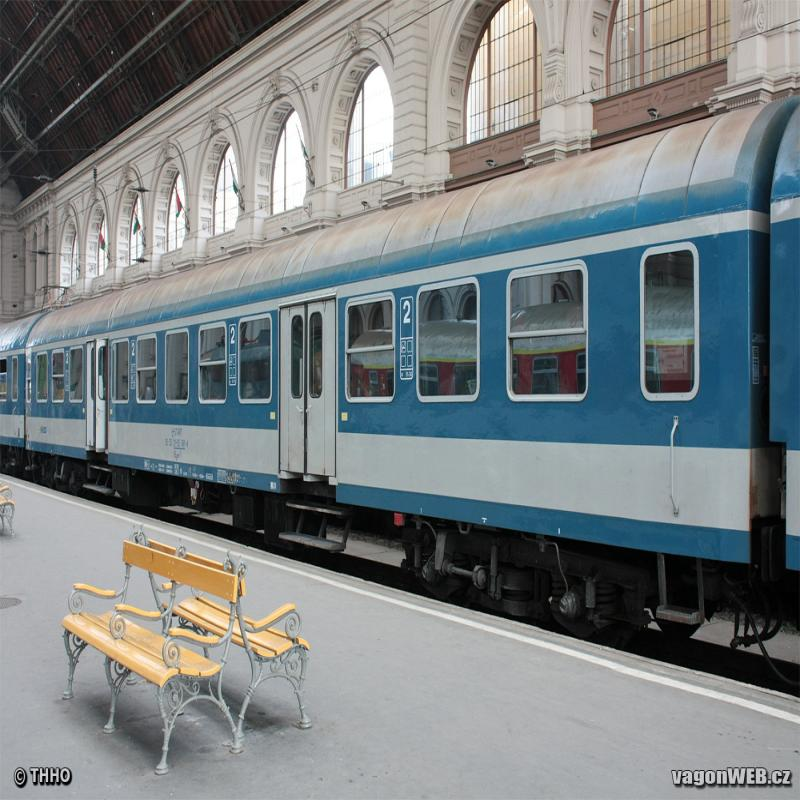train: (24, 95, 800, 678)
